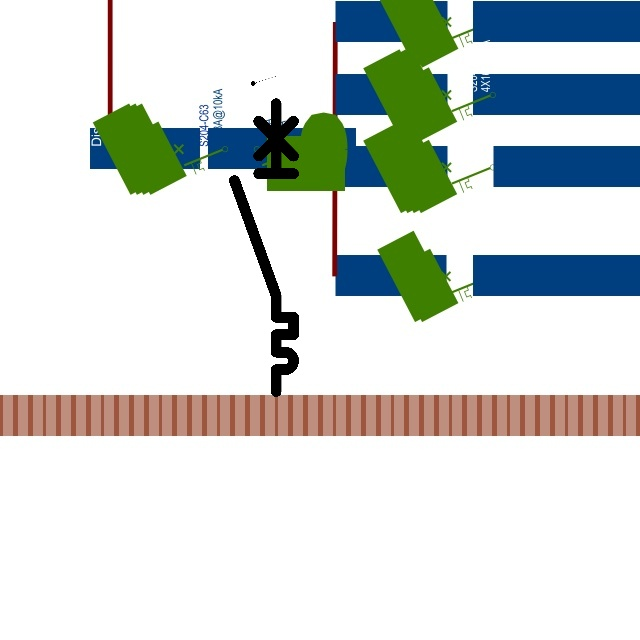interruptor_termomagnetico: (227, 96, 301, 399)
